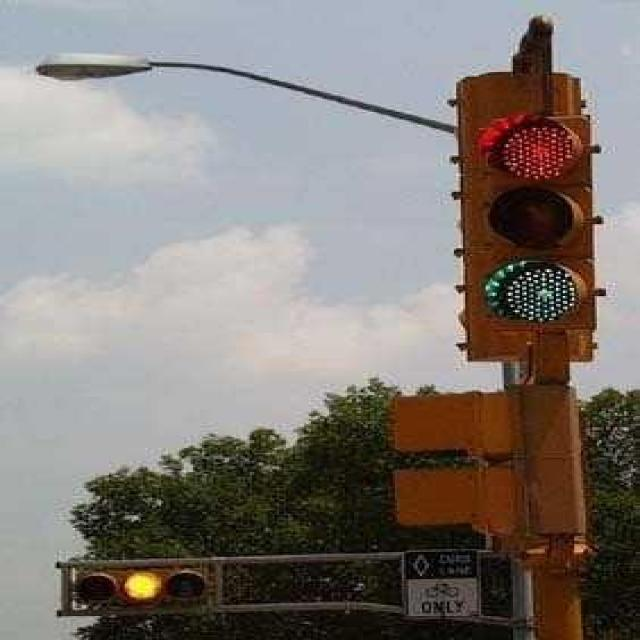Traffic Light -Green-: (472, 77, 595, 360), (478, 184, 608, 344)
Traffic Light -Red-: (483, 111, 595, 253)
